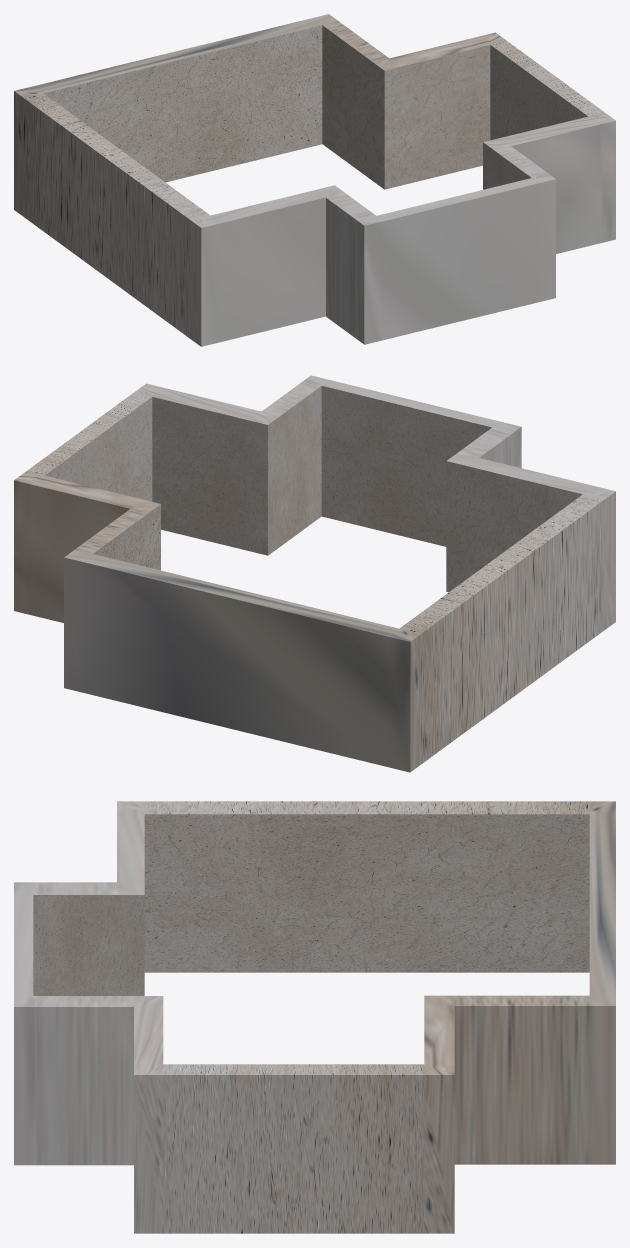
The model's file is Room.fbx.
3 renders of one model, top to bottom at view 1: azimuth 30°, elevation 25°; view 2: azimuth 150°, elevation 25°; view 3: azimuth 270°, elevation 25°, orthographic. The views are drawn at different scales.
Parts seen in each view (by area): view 1: Room1; view 2: Room1; view 3: Room1.
Boxes of the visible parts, left/top/right/bottom form: Room1: left=14, top=14, right=615, bottom=346; Room1: left=14, top=375, right=615, bottom=772; Room1: left=14, top=801, right=615, bottom=1233.
Size of the model in its own units: 2460 by 664 by 2286.
